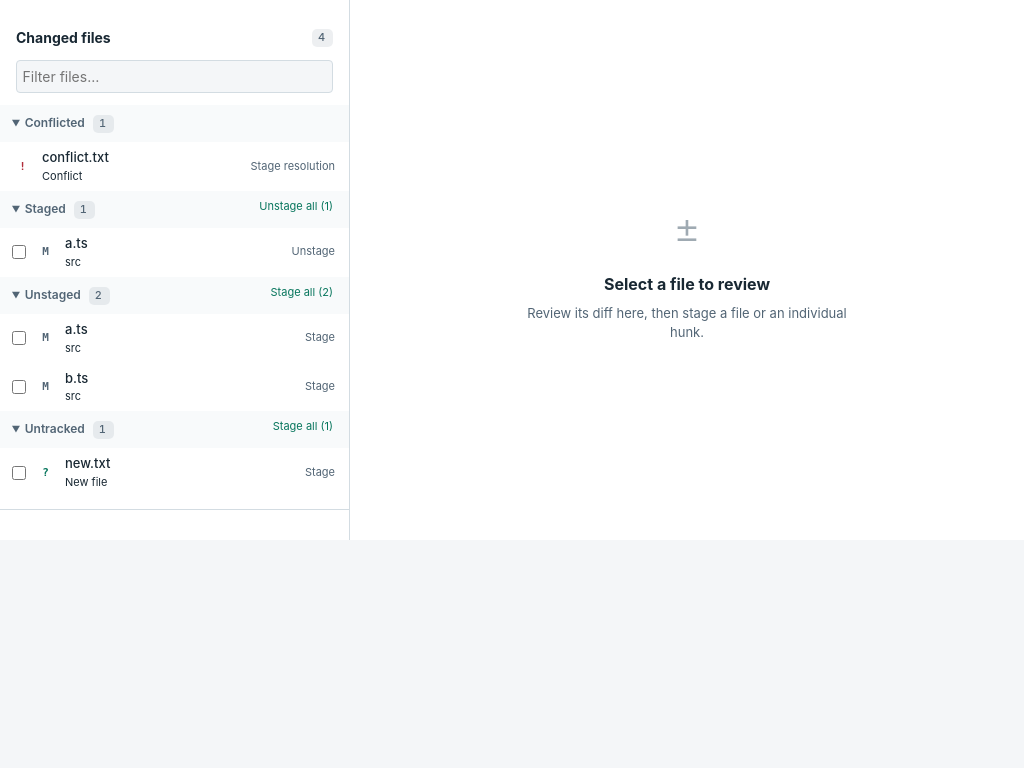
working-file bulk selection › clears checked items on filter edits, including when the old filter returns
The image size is (1024, 768).
Click the checkbox named "Select untracked file new.txt" at [19, 473], box [12,466,26,480]
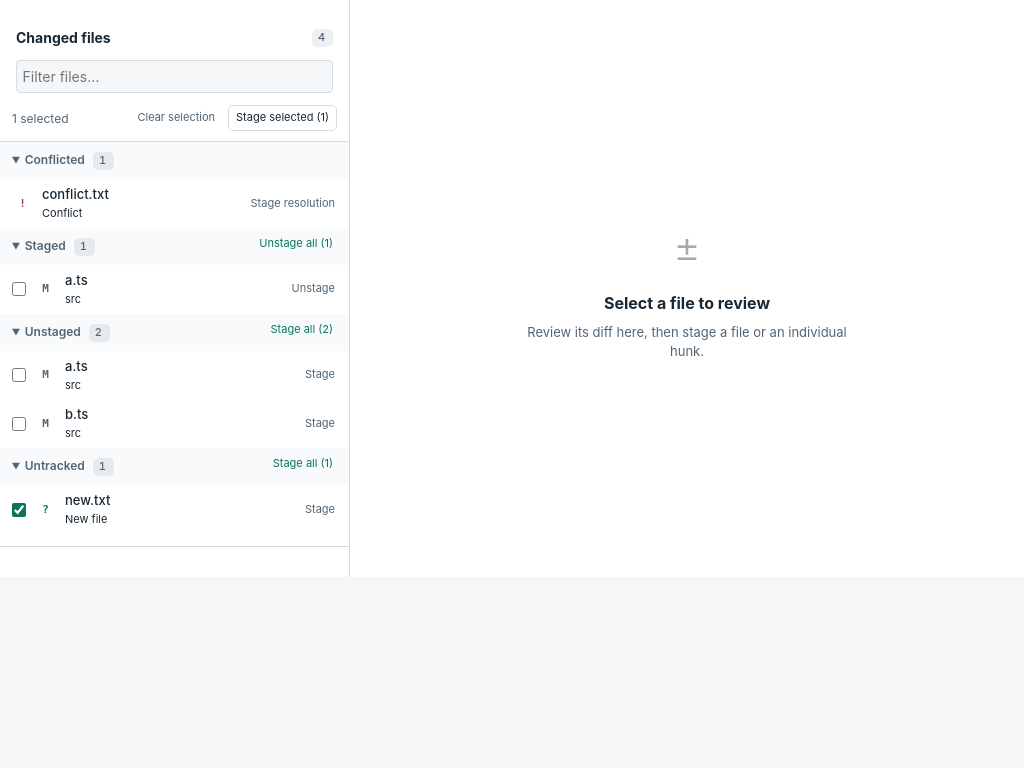
Type "src/" into the search field at [174, 77], box [16,60,333,93]
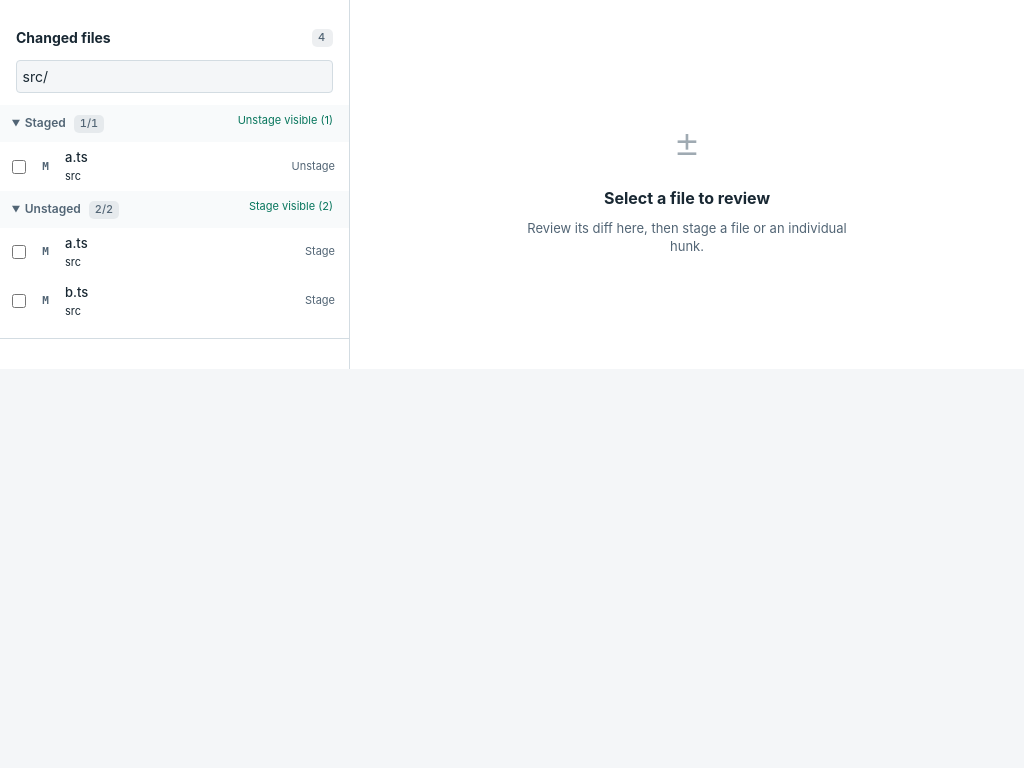
Clear the search field at [174, 77], box [16,60,333,93]
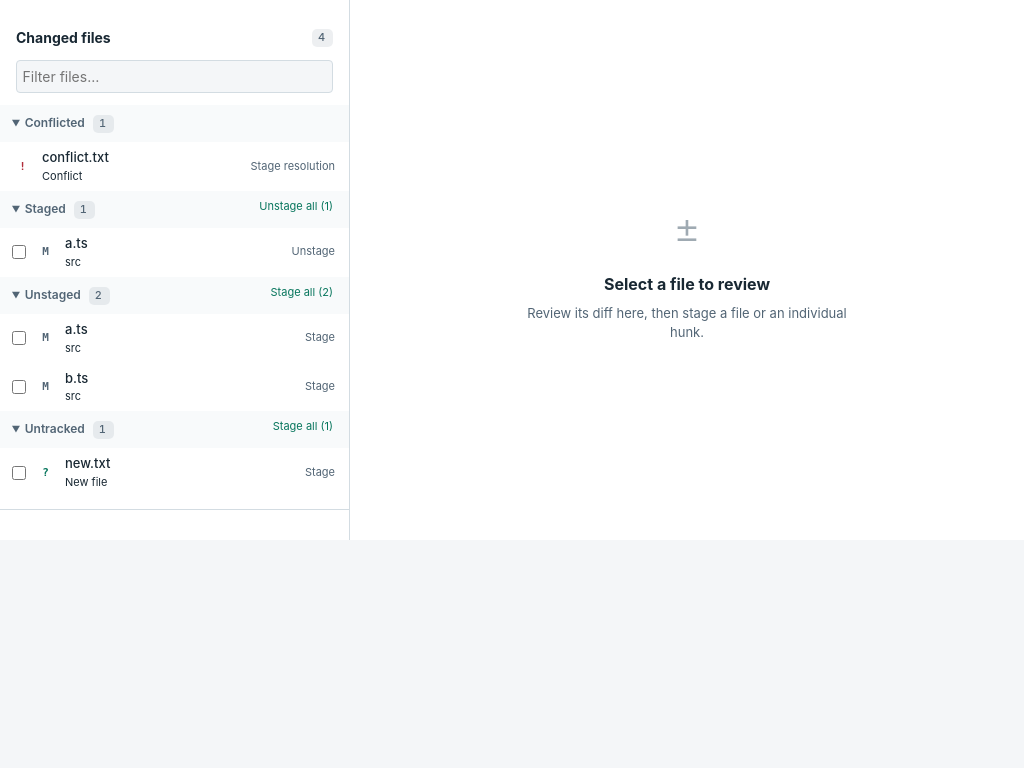
Expected: the checkbox named "Select untracked file new.txt" is not checked, [12,466,26,480]
